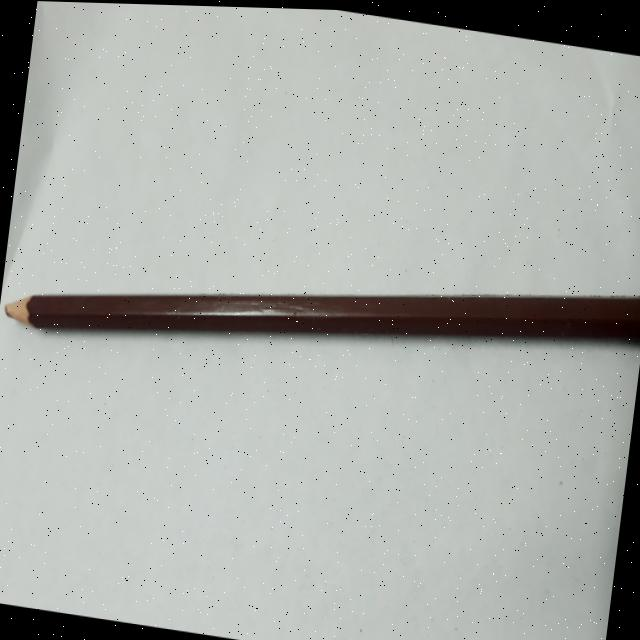pencil: (0, 189, 640, 436)
